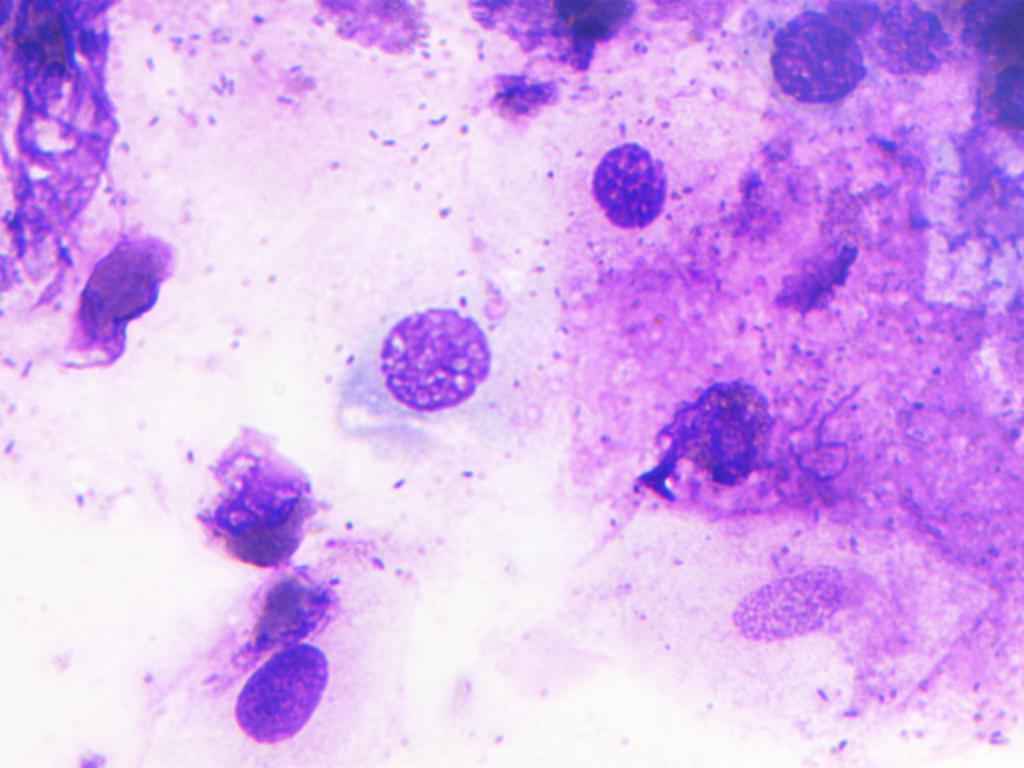artifact: (6, 0, 114, 293), (477, 0, 638, 88)
epithelial: (724, 560, 857, 661)
lymphocyte: (618, 359, 793, 511), (49, 222, 177, 397), (169, 431, 325, 569), (371, 283, 506, 419), (201, 633, 336, 752), (214, 564, 353, 673), (750, 4, 870, 118), (582, 129, 692, 236)
